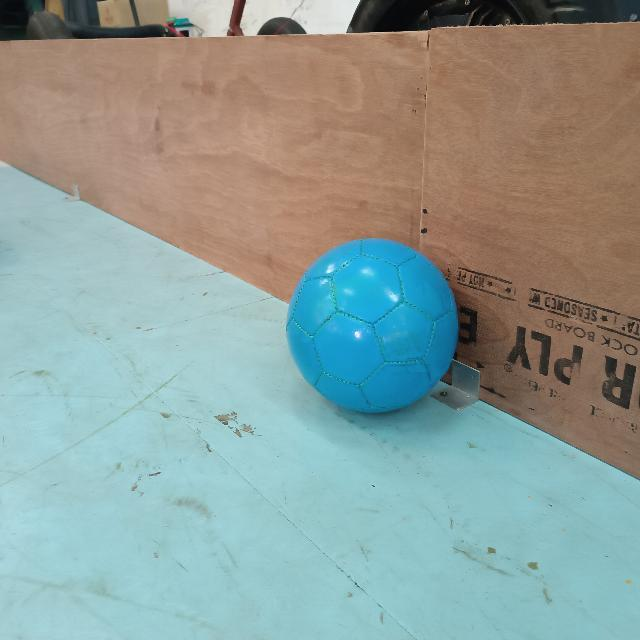B: (282, 233, 462, 417)
